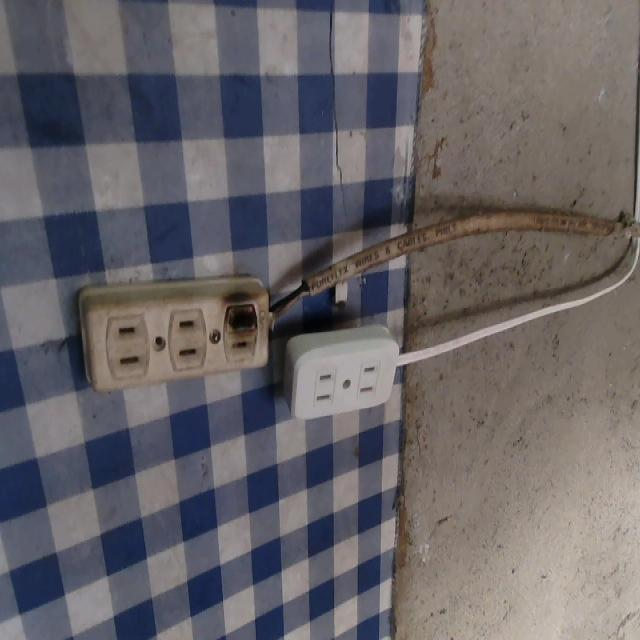-: (221, 291, 269, 340)
